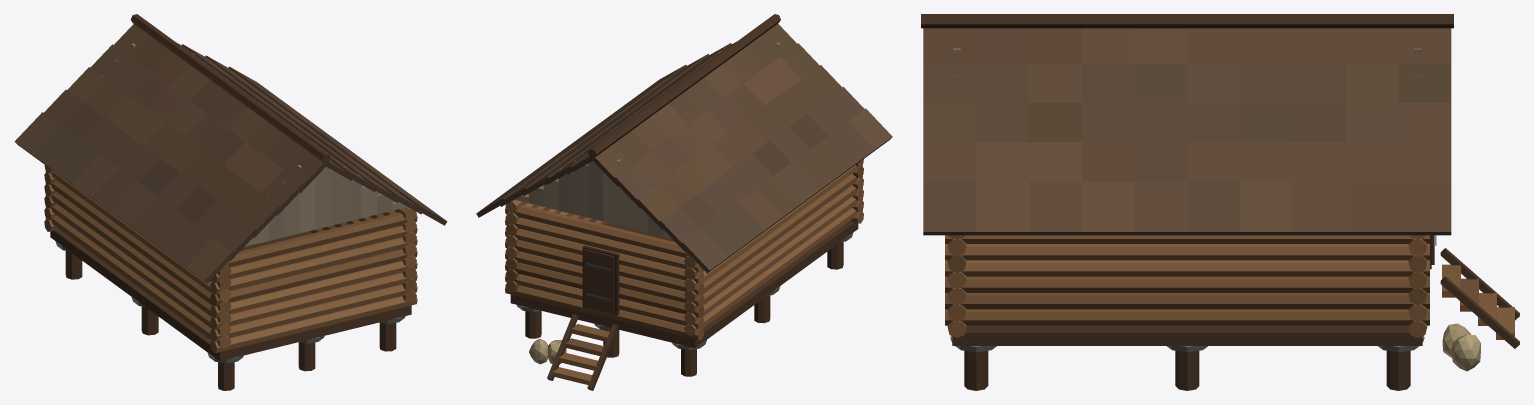
The model's file is Storehouse.glb.
3 views of the same model, side by side, from view 1: azimuth 30°, elevation 25°; view 2: azimuth 150°, elevation 25°; view 3: azimuth 270°, elevation 25° (orthographic). The views are drawn at different scales.
Visible parts, largest first — view 1: Mat_Wood_614730, Mat_Wood_806042, Mat_Wood_453224, Mat_Thatch_8d7e65, Mat_Stone_74726c; view 2: Mat_Wood_614730, Mat_Wood_806042, Mat_Wood_453224, Mat_Thatch_8d7e65, Mat_Thatch_a99771, Mat_Stone_74726c; view 3: Mat_Wood_614730, Mat_Wood_453224, Mat_Wood_806042, Mat_Thatch_a99771, Mat_Stone_74726c.
Part boxes in pixels (x1,y1,x2,y2): Mat_Wood_614730: (14, 24, 445, 325); Mat_Wood_806042: (44, 53, 417, 353); Mat_Wood_453224: (34, 14, 447, 390); Mat_Thatch_8d7e65: (131, 43, 377, 246); Mat_Stone_74726c: (55, 241, 405, 363); Mat_Wood_614730: (477, 24, 892, 355); Mat_Wood_806042: (505, 51, 863, 384); Mat_Wood_453224: (476, 14, 873, 390); Mat_Thatch_8d7e65: (514, 42, 795, 361); Mat_Thatch_a99771: (529, 338, 566, 364); Mat_Stone_74726c: (516, 233, 853, 350); Mat_Wood_614730: (923, 28, 1478, 325); Mat_Wood_453224: (921, 14, 1519, 390); Mat_Wood_806042: (945, 48, 1514, 339); Mat_Thatch_a99771: (1442, 323, 1480, 371); Mat_Stone_74726c: (950, 335, 1424, 352).
Size of the model in its own units: 16.22 by 14.7 by 24.95.
1 material, 1 textured.
